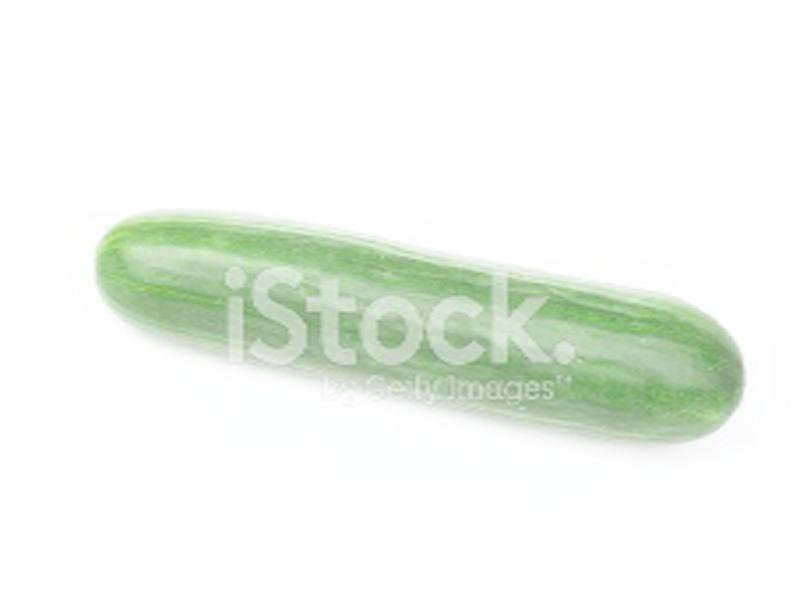Cucumber: (92, 211, 747, 441)
